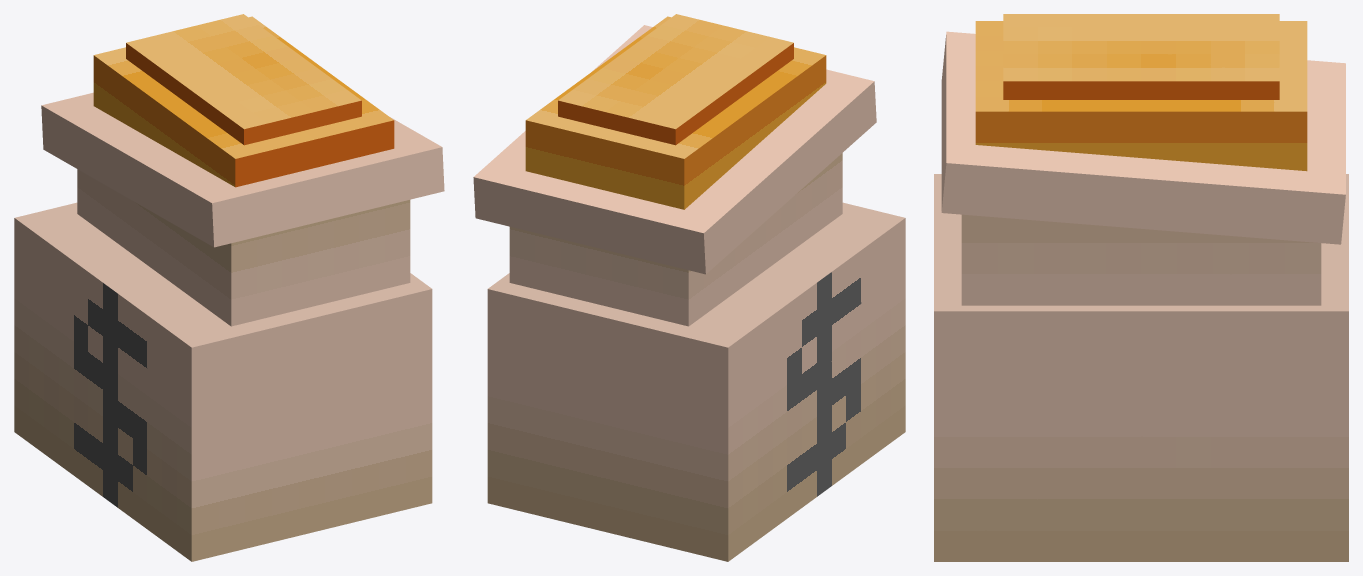
Rendered from Gold Bag of Coins.gltf.
3 renders of one model, left to right at view 1: azimuth 30°, elevation 25°; view 2: azimuth 150°, elevation 25°; view 3: azimuth 270°, elevation 25°, orthographic. The views are drawn at different scales.
Parts seen in each view (by area): view 1: cube (×5); view 2: cube (×5); view 3: cube (×5).
Boxes of the visible parts, left/top/right/bottom form: cube (×5): left=14, top=14, right=444, bottom=561; cube (×5): left=473, top=14, right=905, bottom=561; cube (×5): left=934, top=14, right=1348, bottom=561.
Size of the model in its own units: 0.1562 by 0.2281 by 0.1875.
Materials: 1 (1 with a texture image).
